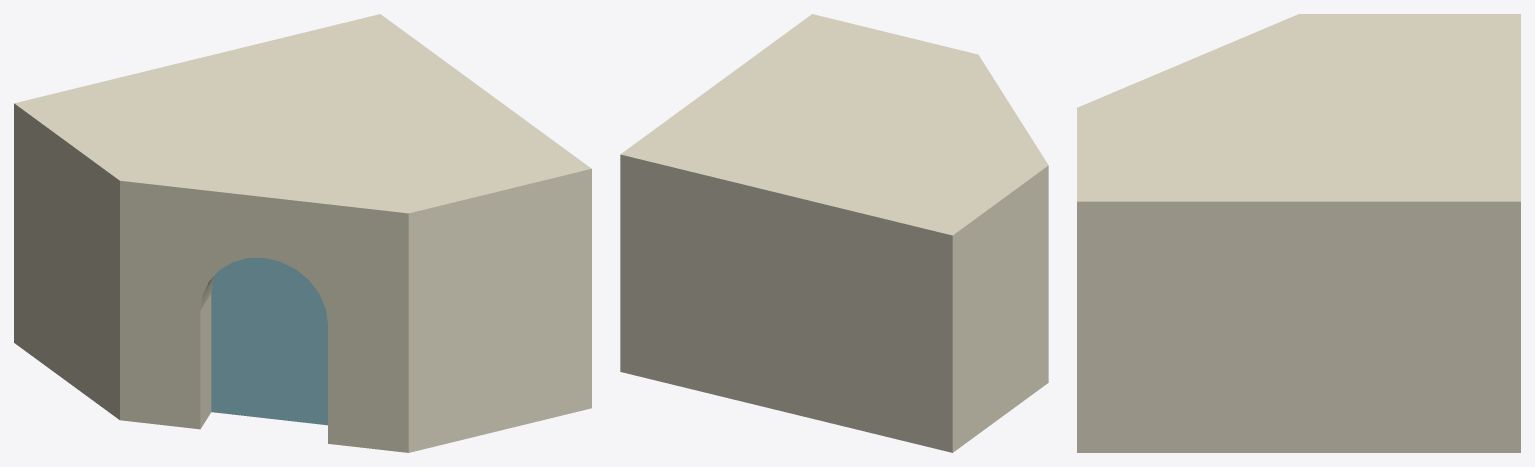
The model's file is modularBuildings_057.fbx.
The picture shows the model from 3 angles, left to right: view 1: azimuth 30°, elevation 25°; view 2: azimuth 150°, elevation 25°; view 3: azimuth 270°, elevation 25°; orthographic projection. The views are drawn at different scales.
Parts seen in each view (by area): view 1: Mesh1_Group1 Model; view 2: Mesh1_Group1 Model; view 3: Mesh1_Group1 Model.
Part boxes in pixels (<box>): Mesh1_Group1 Model: <box>14,14,591,452</box>; Mesh1_Group1 Model: <box>620,14,1048,452</box>; Mesh1_Group1 Model: <box>1077,14,1520,452</box>.
Bounding box in the file's own units: 1 × 0.625 × 1.
